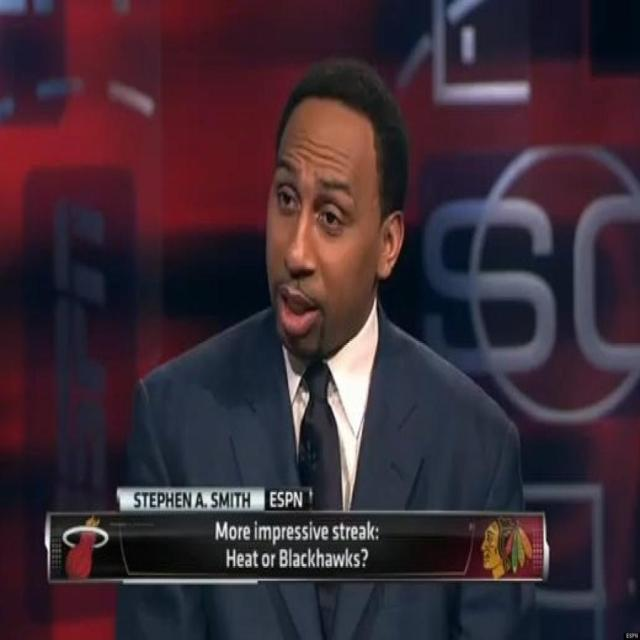Face: (254, 117, 382, 347)
